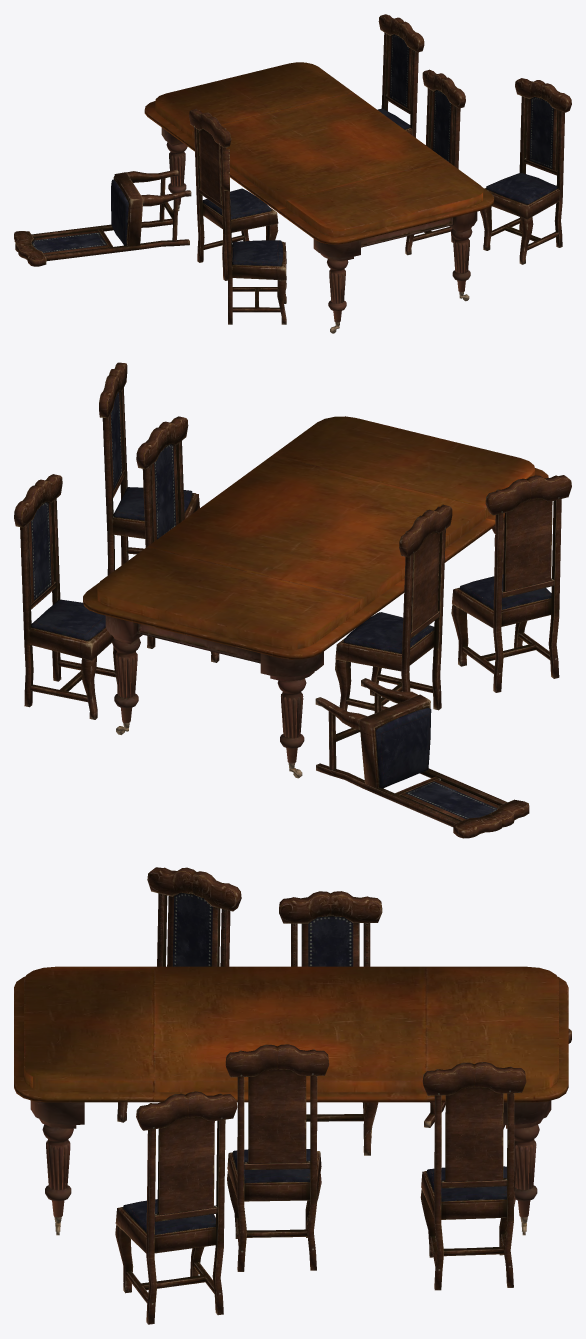
The model's file is vict_table_and_chairs.glb.
The picture shows the model from 3 angles, top to bottom: view 1: azimuth 30°, elevation 25°; view 2: azimuth 150°, elevation 25°; view 3: azimuth 270°, elevation 25°; orthographic projection. The views are drawn at different scales.
Parts seen in each view (by area): view 1: Material-material; view 2: Material-material; view 3: Material-material.
Boxes of the visible parts, box(x1,y1,x2,y2) form: Material-material: box(14, 14, 571, 333); Material-material: box(14, 362, 571, 838); Material-material: box(14, 867, 571, 1324).
Bounding box in the file's own units: 2.6 × 0.9125 × 2.04.
2 materials, 2 textured.
